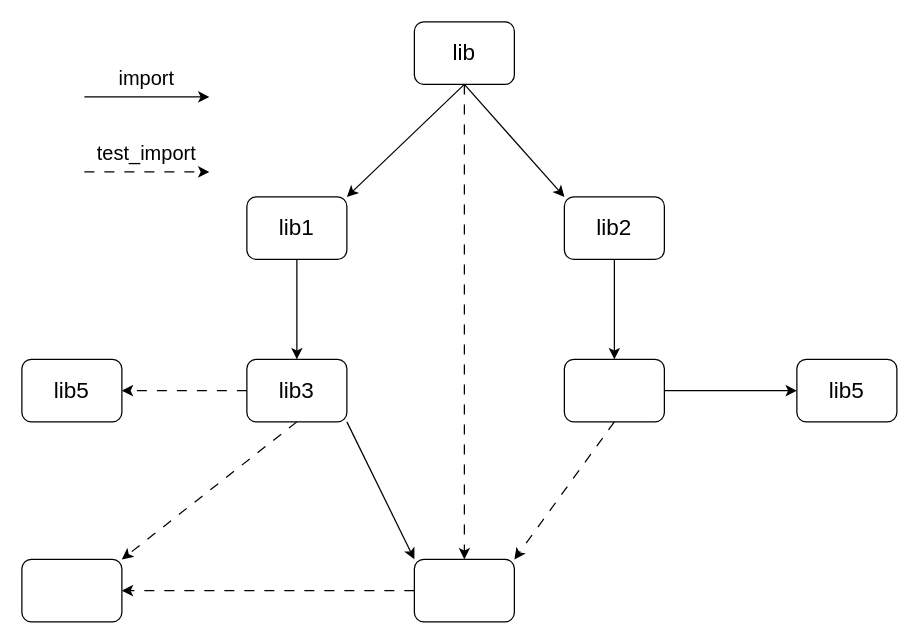
Image size: 919x644. Some labels were removed from this diagram. The shapes that lost their labels are listed below. From the top down, each one's centre as x and y in pixels, then its label:
At (613,390): "lib4".
At (71,590): "lib6".
At (463,590): "lib7".
